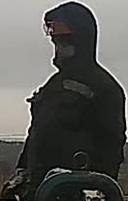gloves: (0, 163, 28, 201)
helmet: (39, 14, 75, 38)
vest: (23, 67, 126, 200)
